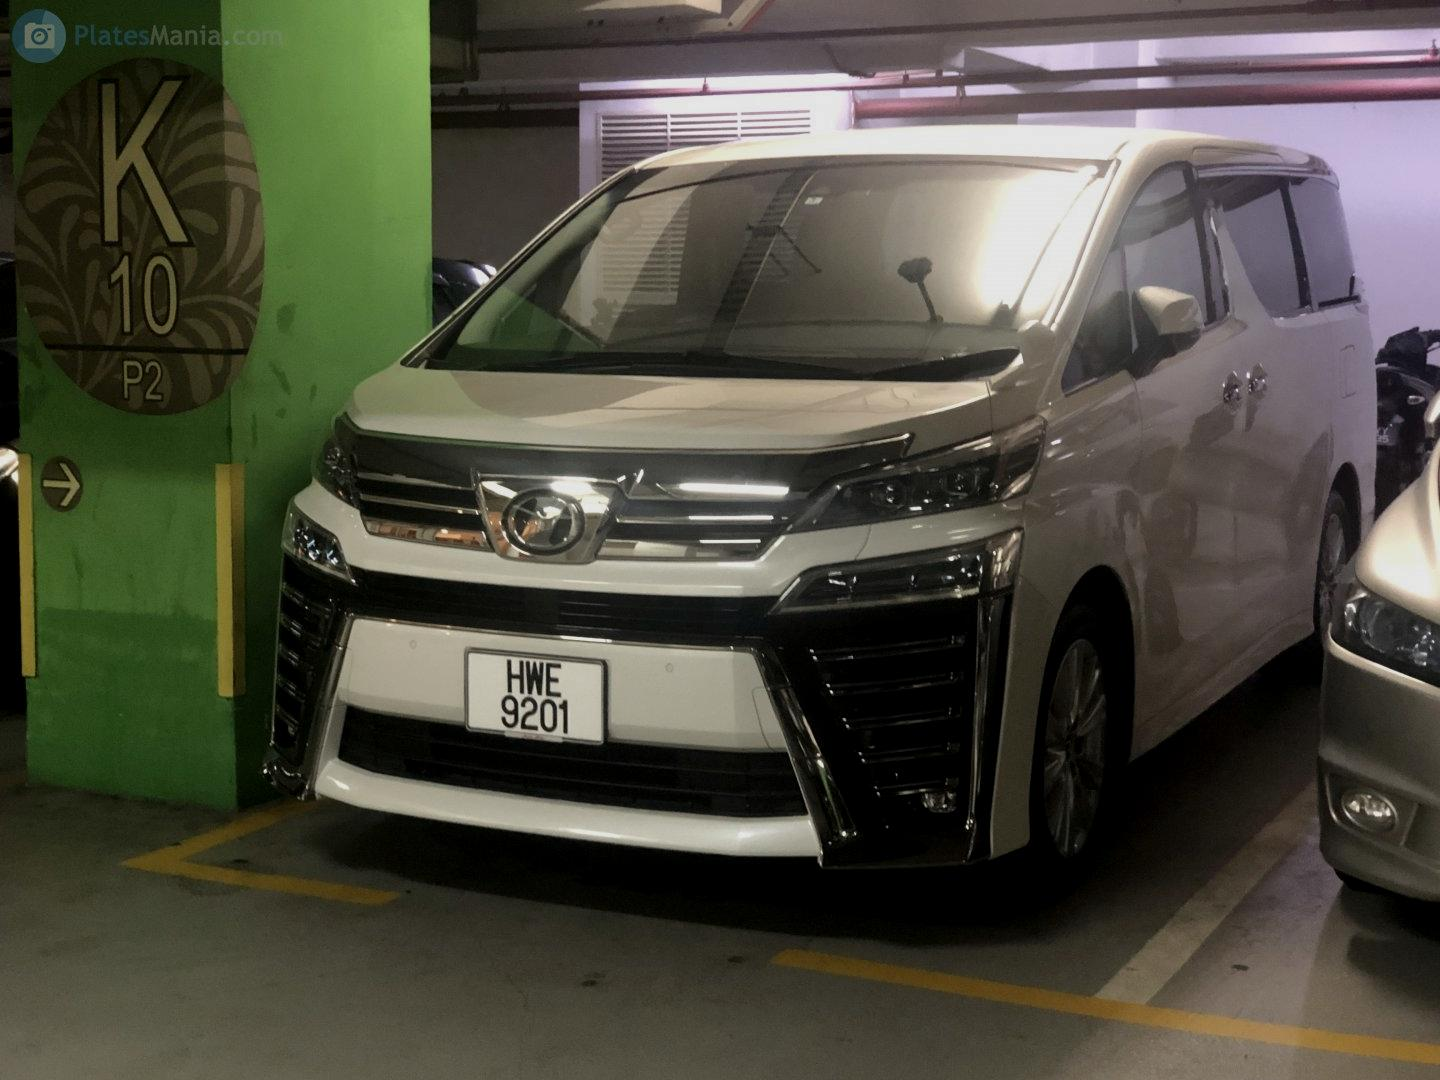License Plate: (469, 653, 605, 743)
